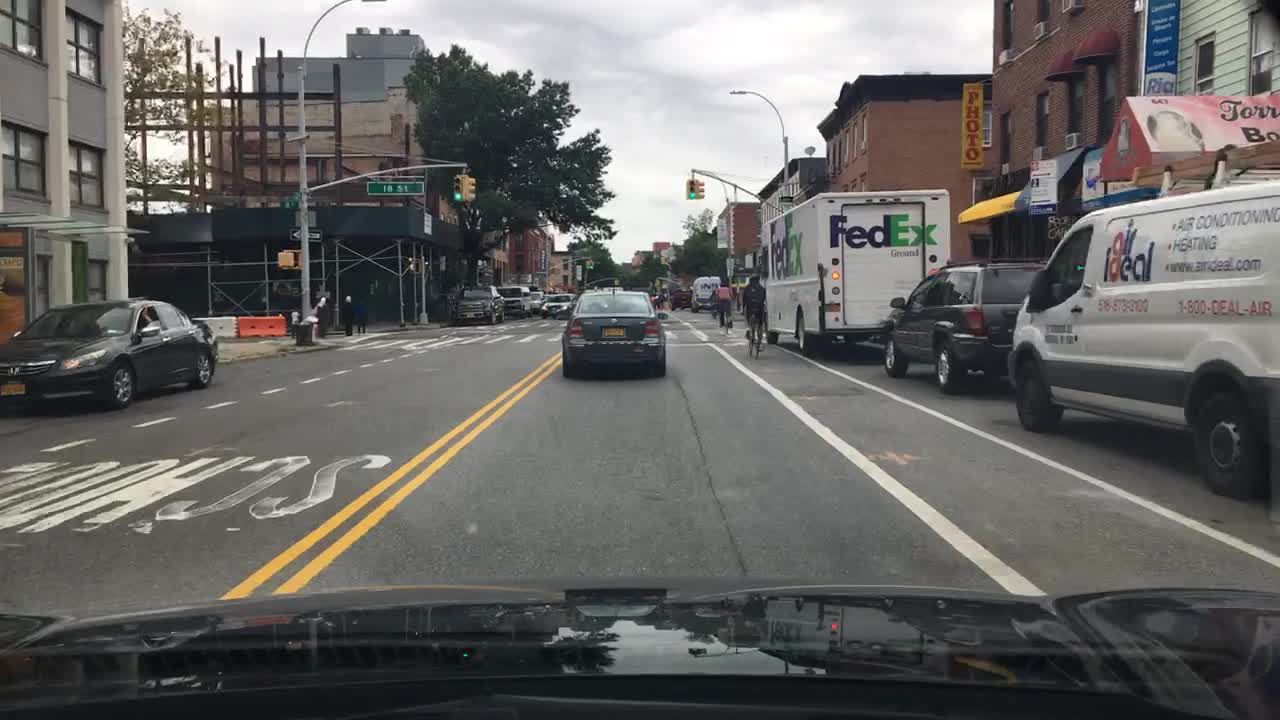bike: (741, 303, 759, 358), (716, 296, 731, 336), (706, 300, 716, 320)
car: (0, 299, 217, 411), (882, 258, 1045, 395), (560, 288, 668, 382), (451, 284, 506, 324), (542, 295, 578, 319), (504, 286, 530, 316), (673, 289, 690, 311), (531, 291, 546, 313)
person: (339, 296, 356, 339), (311, 295, 328, 335), (358, 300, 369, 334), (289, 309, 301, 339)
rider: (741, 274, 769, 341), (716, 281, 734, 329), (706, 290, 718, 310)
traffic light: (464, 175, 476, 202), (451, 173, 462, 200), (277, 253, 294, 267), (696, 179, 706, 200), (687, 179, 696, 199)
traffic sign: (1030, 160, 1056, 214), (366, 182, 424, 195), (290, 229, 321, 242), (779, 194, 793, 207), (280, 200, 300, 209)
truck: (1005, 178, 1279, 496), (762, 188, 952, 354), (690, 277, 719, 314)
